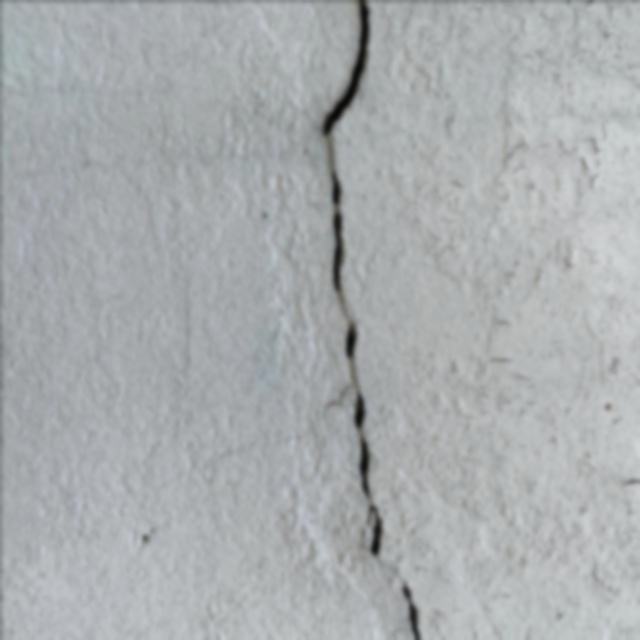SurfaceCrack: (284, 0, 445, 640)
